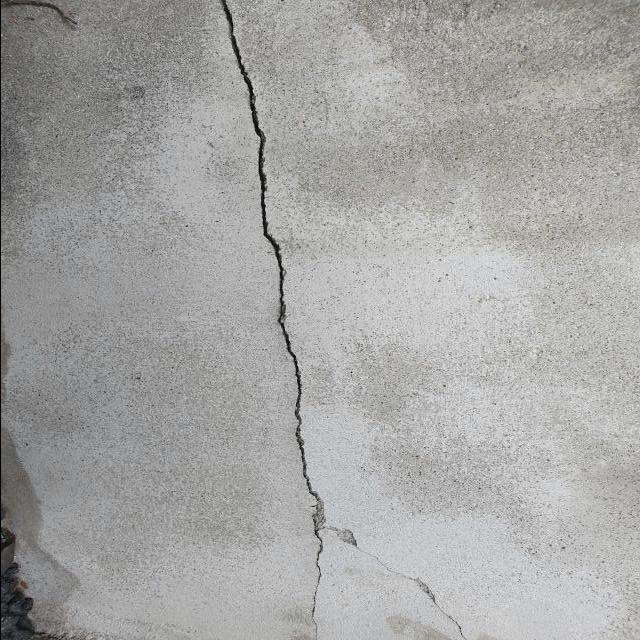SurfaceCrack: (183, 0, 358, 640), (317, 517, 639, 638)
